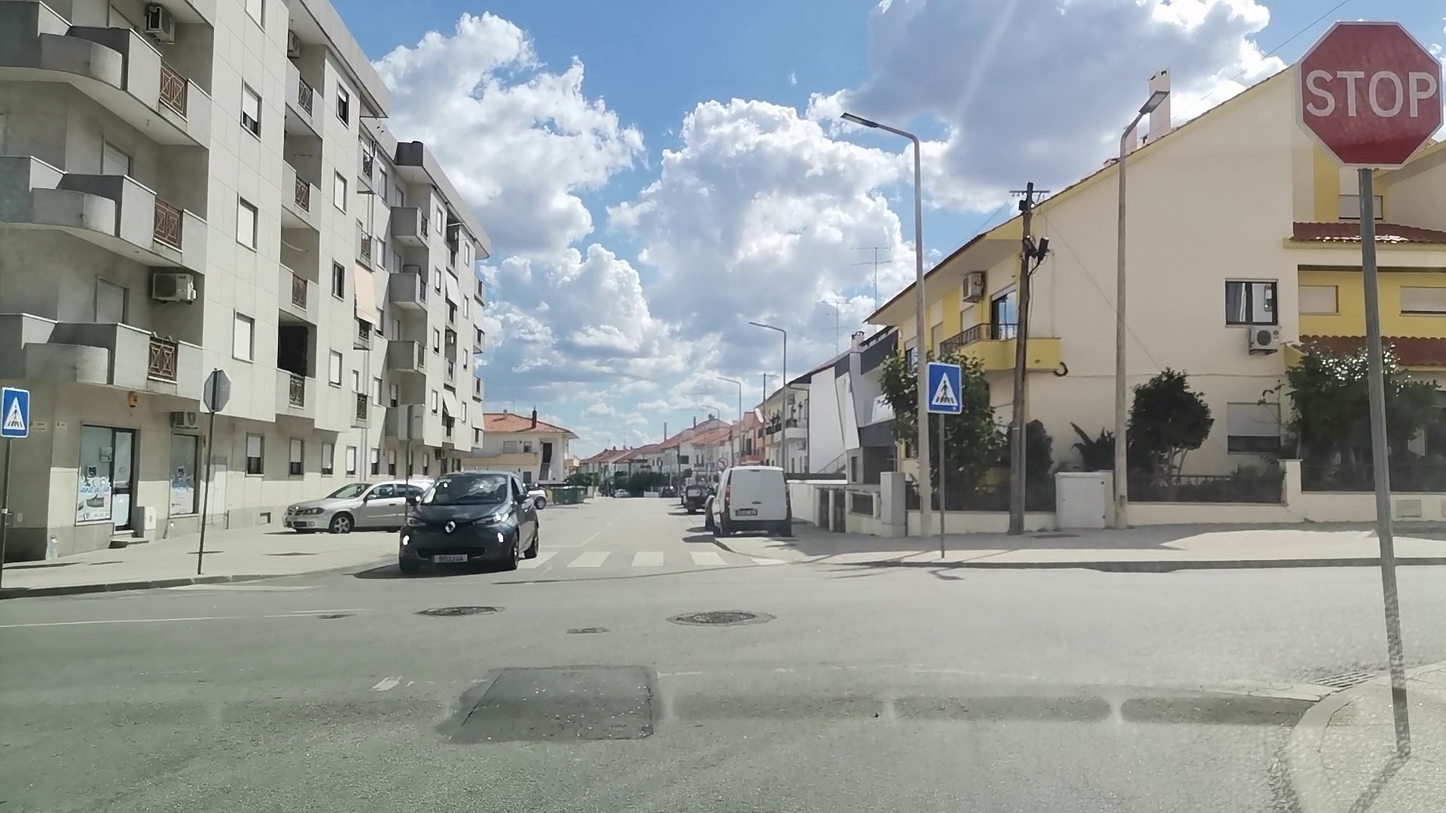Stairs: (555, 548, 788, 570)
